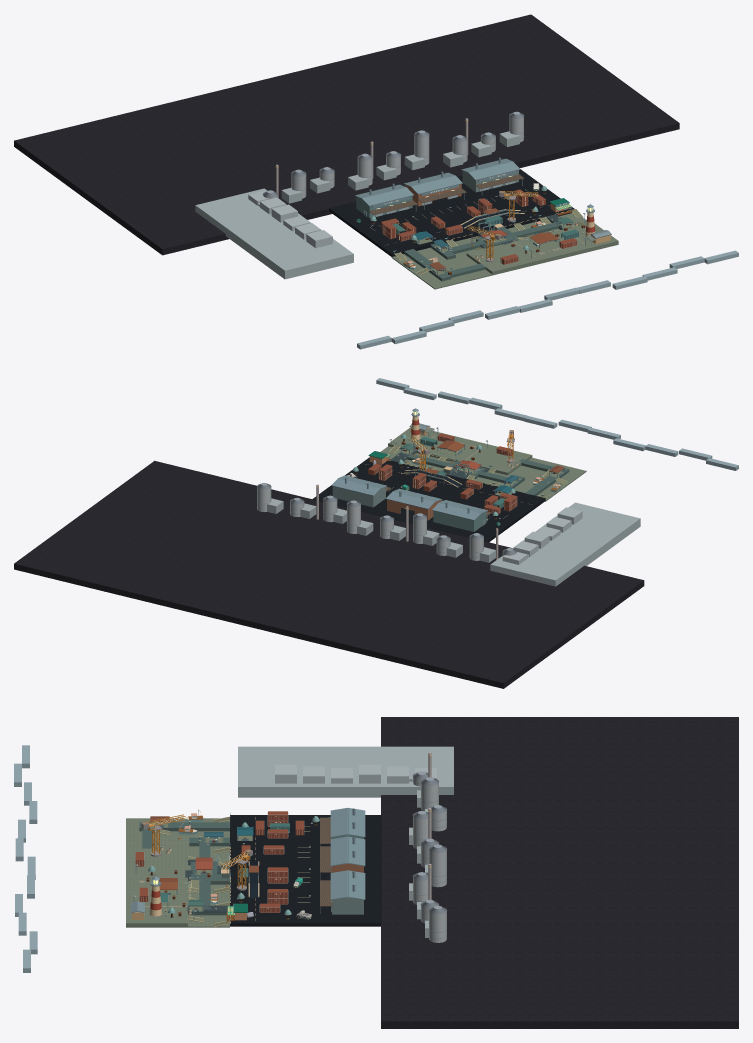
Rendered from harbor.glb.
3 views of the same model, one above another, from view 1: azimuth 30°, elevation 25°; view 2: azimuth 150°, elevation 25°; view 3: azimuth 270°, elevation 25° (orthographic). The views are drawn at different scales.
Visible parts, largest first — view 1: Mat_011_asphalt, Mat_007_vcol_lit, Mat_010_asphalt, Mat_033_sidewalk, Mat_028_quay_steel, Mat_020_quay_steel, Mat_015_diamond_plate, Mat_037_siding; view 2: Mat_011_asphalt, Mat_007_vcol_lit, Mat_010_asphalt, Mat_033_sidewalk, Mat_028_quay_steel, Mat_020_quay_steel, Mat_022_quay_steel, Mat_023_quay_steel; view 3: Mat_011_asphalt, Mat_007_vcol_lit, Mat_010_asphalt, Mat_033_sidewalk, Mat_020_quay_steel, Mat_028_quay_steel, Mat_015_diamond_plate, Mat_037_siding, Mat_035_sidewalk, Mat_023_quay_steel.
Part boxes in pixels (x1,y1,x2,y2): Mat_011_asphalt: (14, 14, 679, 255); Mat_007_vcol_lit: (195, 111, 738, 349); Mat_010_asphalt: (329, 169, 575, 256); Mat_033_sidewalk: (391, 213, 618, 289); Mat_028_quay_steel: (381, 189, 576, 264); Mat_020_quay_steel: (404, 217, 562, 281); Mat_015_diamond_plate: (369, 174, 524, 214); Mat_037_siding: (467, 191, 538, 260); Mat_011_asphalt: (14, 460, 644, 688); Mat_007_vcol_lit: (257, 378, 738, 586); Mat_010_asphalt: (312, 457, 545, 542); Mat_033_sidewalk: (380, 427, 586, 501); Mat_028_quay_steel: (368, 433, 516, 513); Mat_020_quay_steel: (402, 451, 569, 495); Mat_022_quay_steel: (433, 511, 486, 531); Mat_023_quay_steel: (332, 486, 385, 507); Mat_011_asphalt: (381, 717, 738, 1028); Mat_007_vcol_lit: (14, 745, 453, 972); Mat_010_asphalt: (230, 815, 381, 926); Mat_033_sidewalk: (126, 818, 229, 927); Mat_020_quay_steel: (139, 822, 230, 915); Mat_028_quay_steel: (135, 811, 303, 912); Mat_015_diamond_plate: (320, 817, 332, 906); Mat_037_siding: (142, 814, 251, 888); Mat_035_sidewalk: (155, 817, 229, 927); Mat_023_quay_steel: (332, 897, 363, 914).
Size of what is drawn, in the model's own units: 360 by 28.2 by 362.
47 materials, 40 textured.
